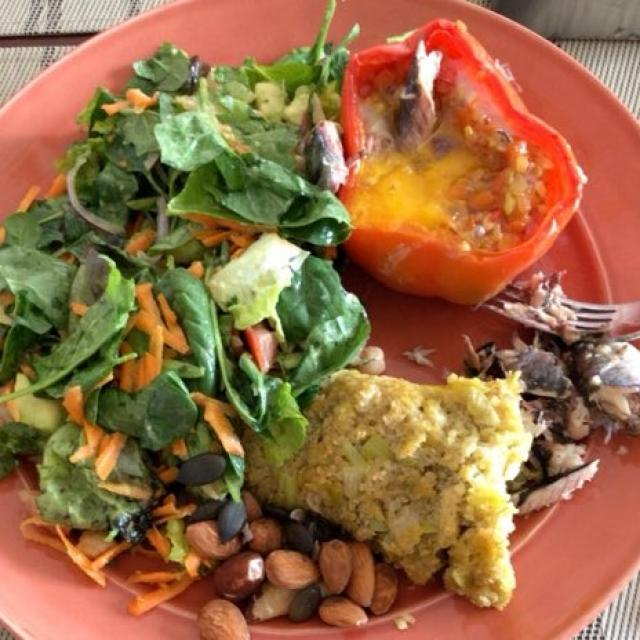bell-pepper-red-raw: (338, 18, 600, 288)
carrot-raw: (32, 224, 264, 616)
cheese: (350, 152, 485, 247)
mixed-nuts: (176, 504, 426, 631)
quinoa: (232, 373, 530, 600)
rice: (443, 144, 554, 267)
spinach-raw: (0, 47, 352, 527)
